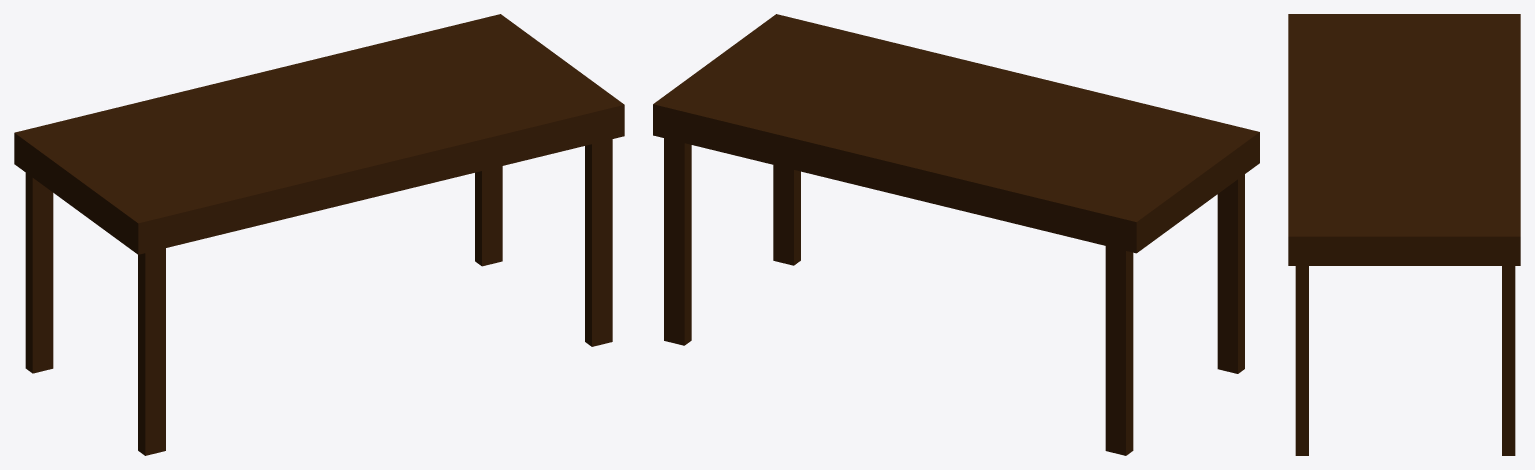
Rendered from table 1.fbx.
3 renders of one model, left to right at view 1: azimuth 30°, elevation 25°; view 2: azimuth 150°, elevation 25°; view 3: azimuth 270°, elevation 25°, orthographic. The views are drawn at different scales.
Parts seen in each view (by area): view 1: bed:bed:Tables:pCube1; view 2: bed:bed:Tables:pCube1; view 3: bed:bed:Tables:pCube1.
Part boxes in pixels (x1,y1,x2,y2): bed:bed:Tables:pCube1: (14,14,624,455); bed:bed:Tables:pCube1: (653,14,1259,455); bed:bed:Tables:pCube1: (1288,14,1520,455).
Bounding box in the file's own units: 12.99 × 6.08 × 5.73.
